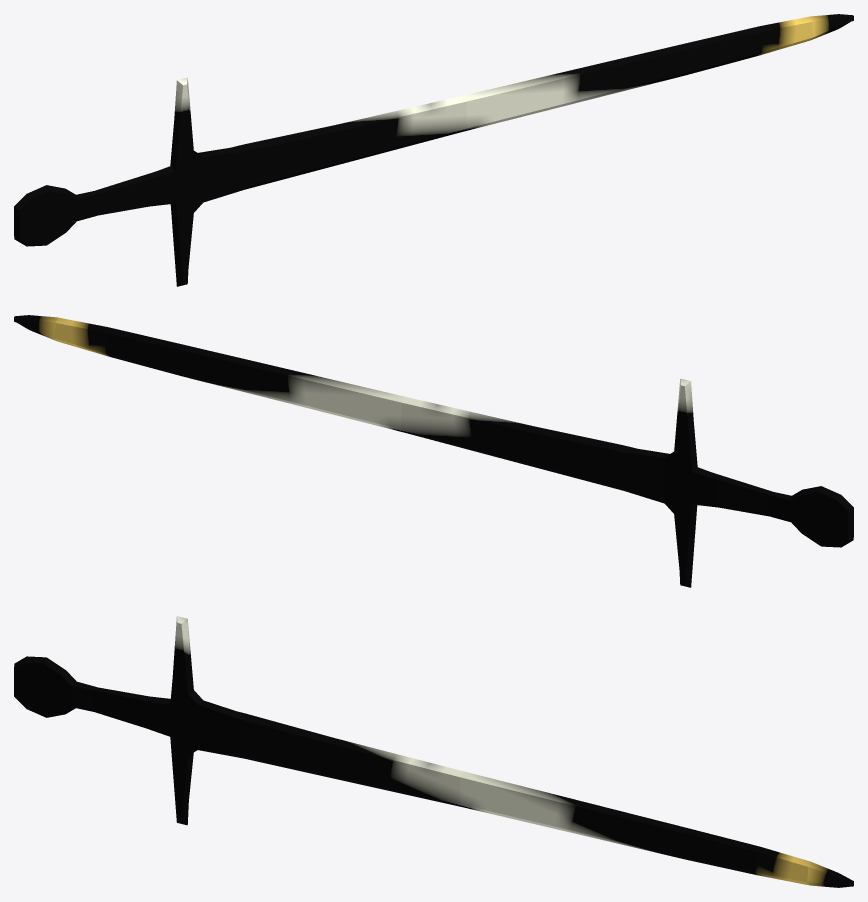
The model's file is sword.obj.
3 renders of one model, top to bottom at view 1: azimuth 30°, elevation 25°; view 2: azimuth 150°, elevation 25°; view 3: azimuth 330°, elevation 25°, orthographic.
Visible parts, largest first — view 1: sword_Plane; view 2: sword_Plane; view 3: sword_Plane.
Boxes of the visible parts, x1,y1,x2,y2 form: sword_Plane: [14, 14, 853, 286]; sword_Plane: [14, 315, 853, 587]; sword_Plane: [14, 616, 853, 887].
Size of the model in its own units: 4.67 by 1.1 by 0.0643.
